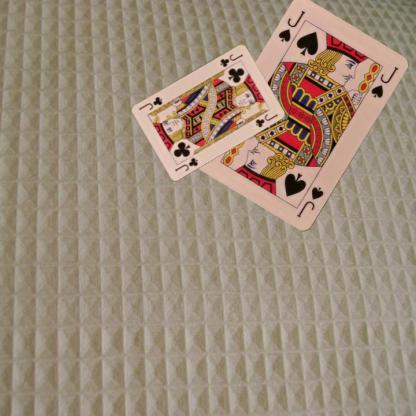Jc: (172, 155, 200, 173), (217, 51, 244, 68)
Js: (275, 7, 306, 44), (294, 184, 326, 219)
